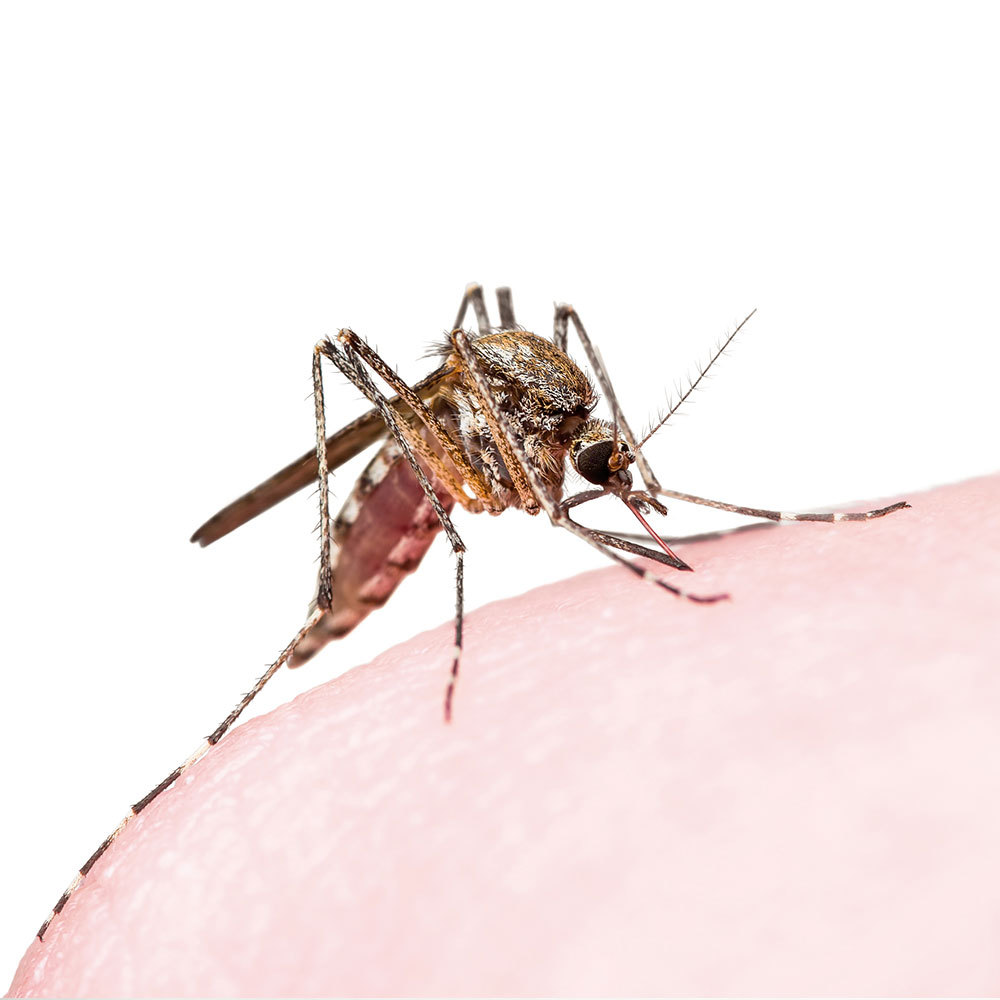mosquito: (169, 274, 934, 757)
